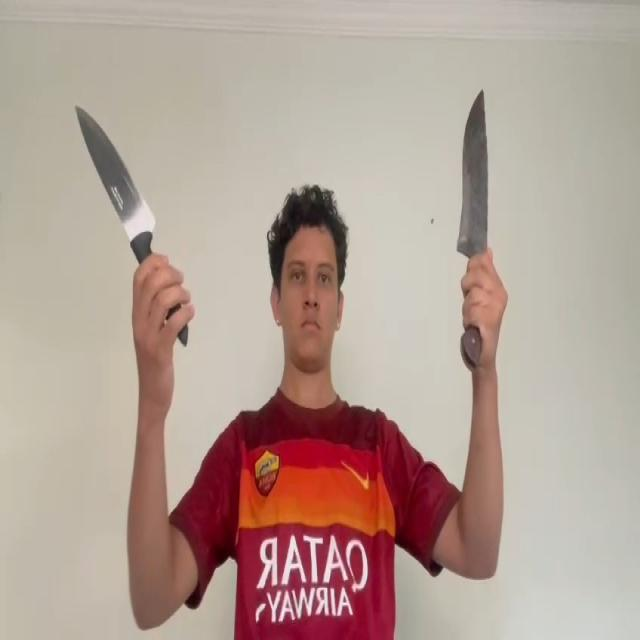knife: (75, 101, 156, 238), (455, 90, 489, 258)
